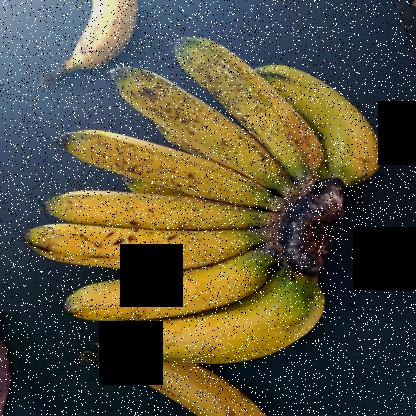ripe: (177, 29, 328, 180), (107, 274, 334, 371), (106, 64, 278, 188), (41, 131, 278, 208), (267, 59, 399, 184), (57, 253, 276, 324), (17, 221, 285, 272), (35, 181, 282, 230), (83, 350, 248, 416), (49, 0, 138, 68)
